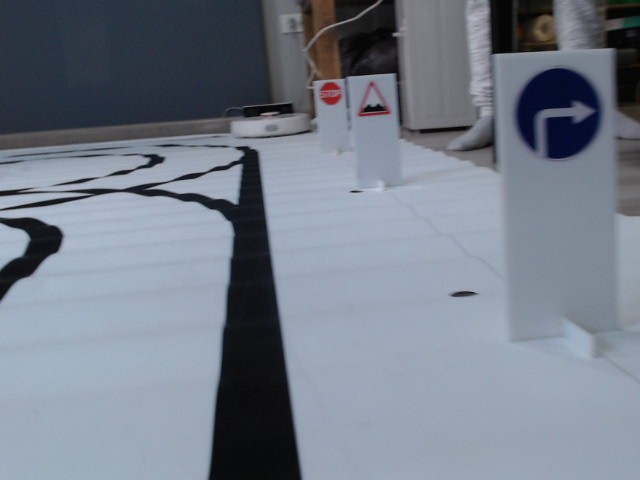Nerov: (355, 79, 392, 117)
Right: (514, 67, 601, 160)
